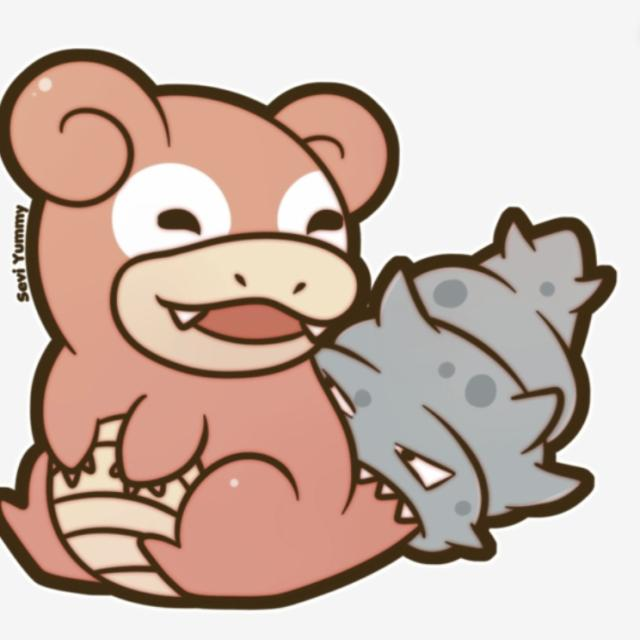Slowbro: (26, 52, 492, 591)
